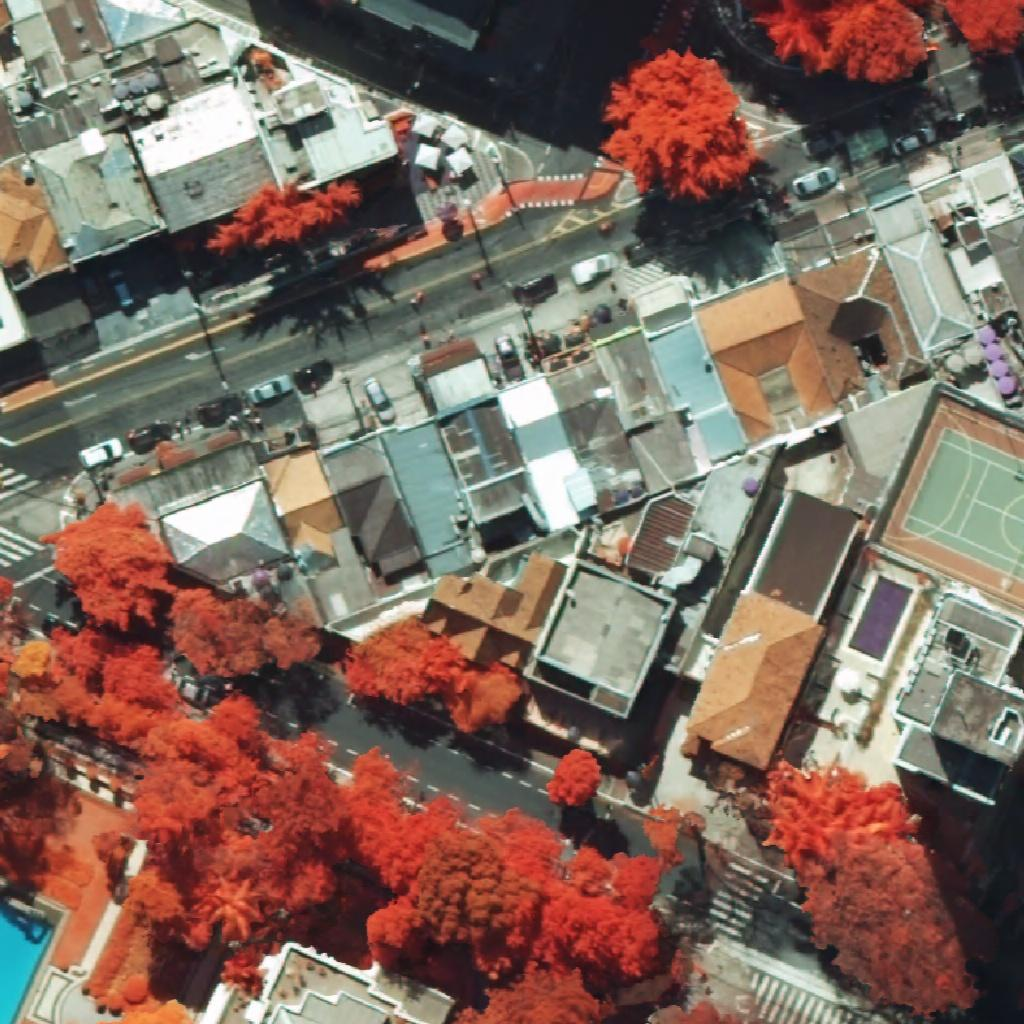pool: (848, 576, 913, 662)
